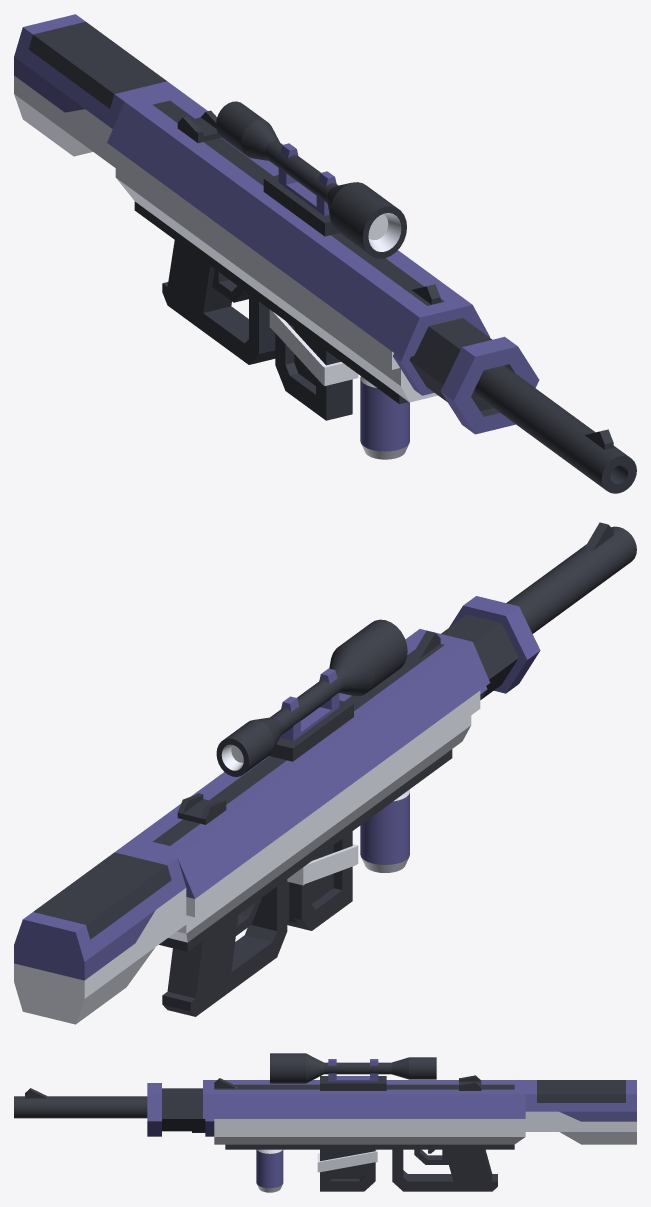
Rendered from sniper.fbx.
3 renders of one model, top to bottom at view 1: azimuth 30°, elevation 25°; view 2: azimuth 150°, elevation 25°; view 3: azimuth 270°, elevation 25°, orthographic. The views are drawn at different scales.
Parts seen in each view (by area): view 1: mergedBlocks; view 2: mergedBlocks; view 3: mergedBlocks.
Boxes of the visible parts, x1=… form: mergedBlocks: x1=14, y1=14, x2=636, y2=493; mergedBlocks: x1=14, y1=522, x2=636, y2=1024; mergedBlocks: x1=14, y1=1053, x2=636, y2=1192.
Size of the model in its own units: 5 by 13.25 by 56.
